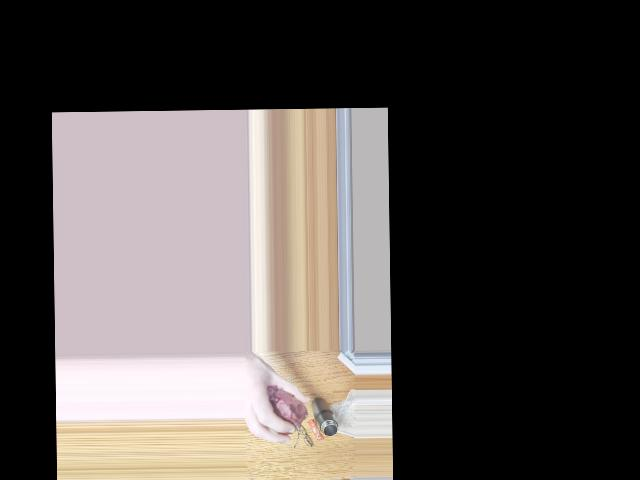onion: (265, 384, 303, 431)
